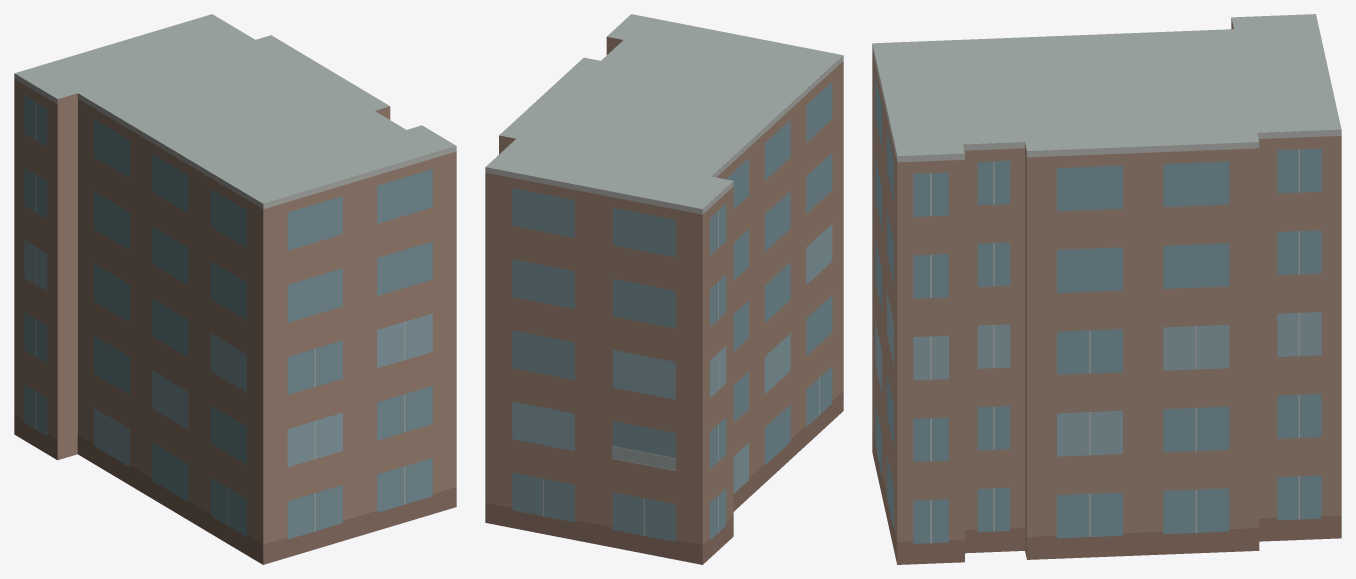
File: survey-upis-32610216.glb
3 renders of one model, left to right at view 1: azimuth 30°, elevation 25°; view 2: azimuth 150°, elevation 25°; view 3: azimuth 270°, elevation 25°, orthographic. The views are drawn at different scales.
Visible parts, largest first — view 1: survey-upis-32610216.tmp; view 2: survey-upis-32610216.tmp; view 3: survey-upis-32610216.tmp.
Part boxes in pixels (x1,y1,x2,y2): survey-upis-32610216.tmp: (14, 14, 456, 564); survey-upis-32610216.tmp: (485, 14, 843, 564); survey-upis-32610216.tmp: (872, 14, 1341, 564).
Size of the model in its own units: 11.87 by 15.9 by 16.55.
